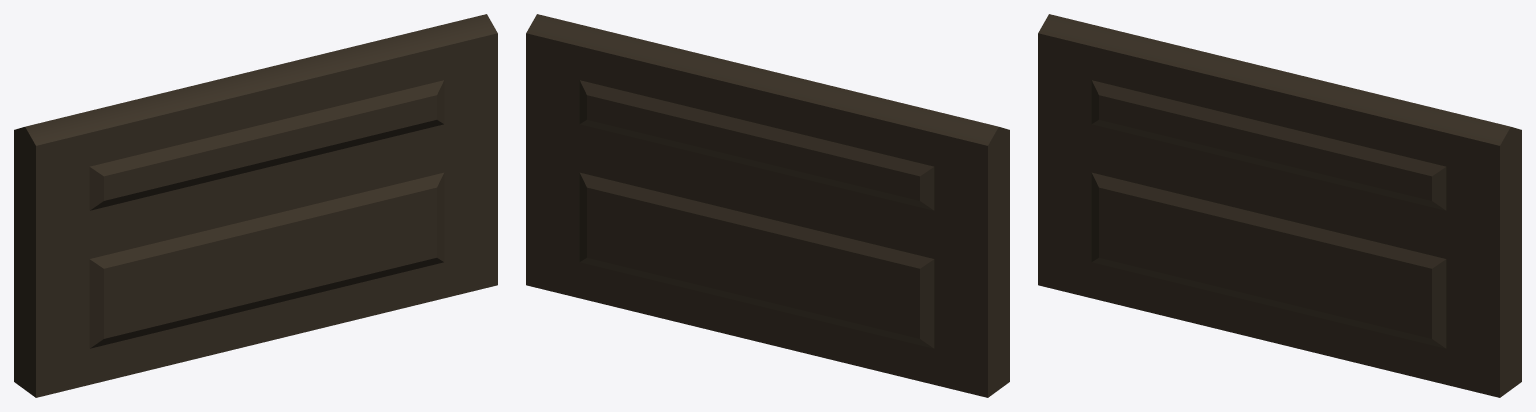
The model's file is Itr_Bed_Double_Back_01.FBX.
The picture shows the model from 3 angles, left to right: view 1: azimuth 30°, elevation 25°; view 2: azimuth 150°, elevation 25°; view 3: azimuth 330°, elevation 25°; orthographic projection.
Visible parts, largest first — view 1: Itr_Bed_Double_Back_01; view 2: Itr_Bed_Double_Back_01; view 3: Itr_Bed_Double_Back_01.
Part boxes in pixels (x1,y1,x2,y2): Itr_Bed_Double_Back_01: (14,14,497,397); Itr_Bed_Double_Back_01: (526,14,1009,397); Itr_Bed_Double_Back_01: (1038,14,1521,397).
Size of the model in its own units: 68.66 by 37.4 by 7.45.
